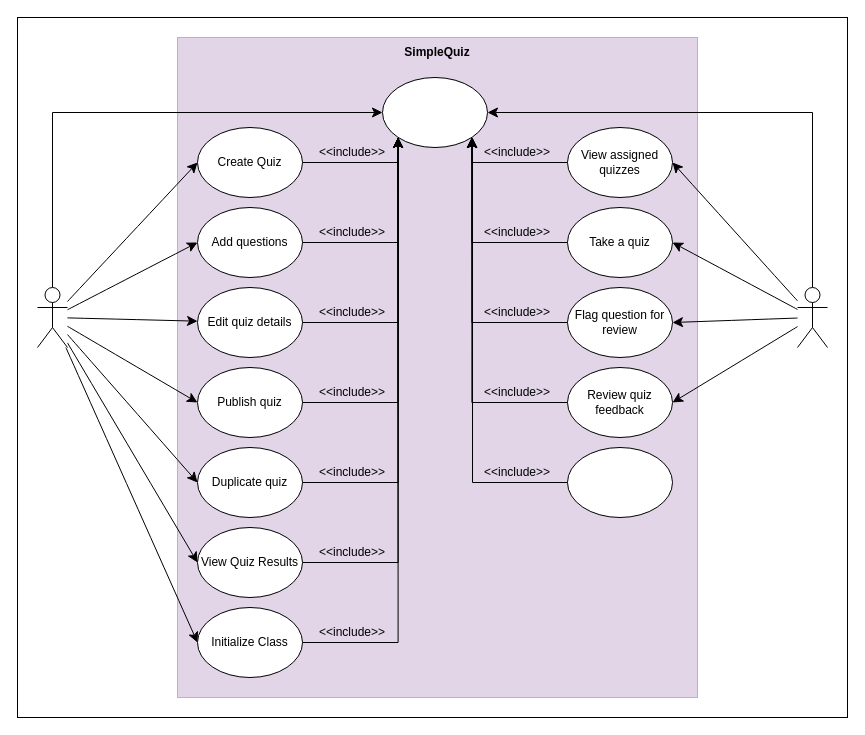
This 865x735 diagram has some shape labels left out. The centre of each missing label's shape, as x and y in pixels:
Join an initialized class: point (619, 482)
Log in: point (435, 112)
Student: point (812, 317)
Teacher: point (52, 317)
